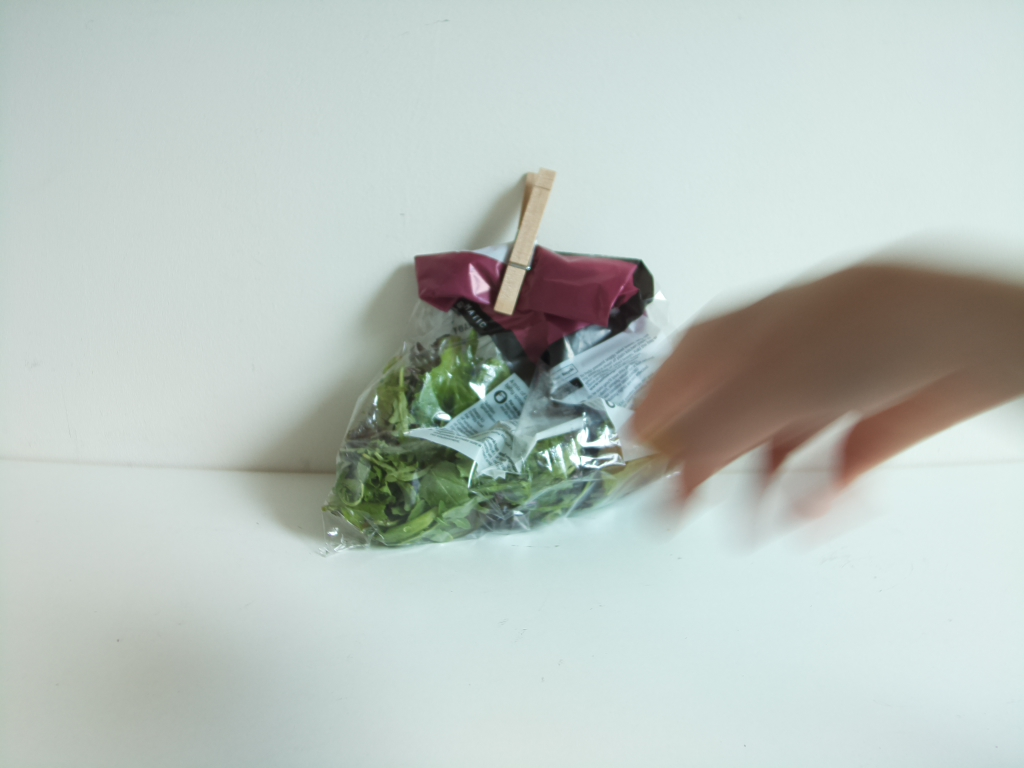salad: (326, 256, 675, 556)
